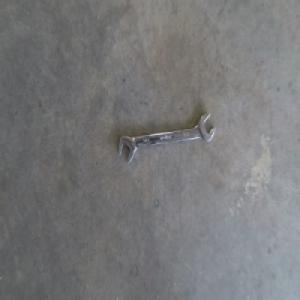Wrench: (119, 111, 216, 162)
